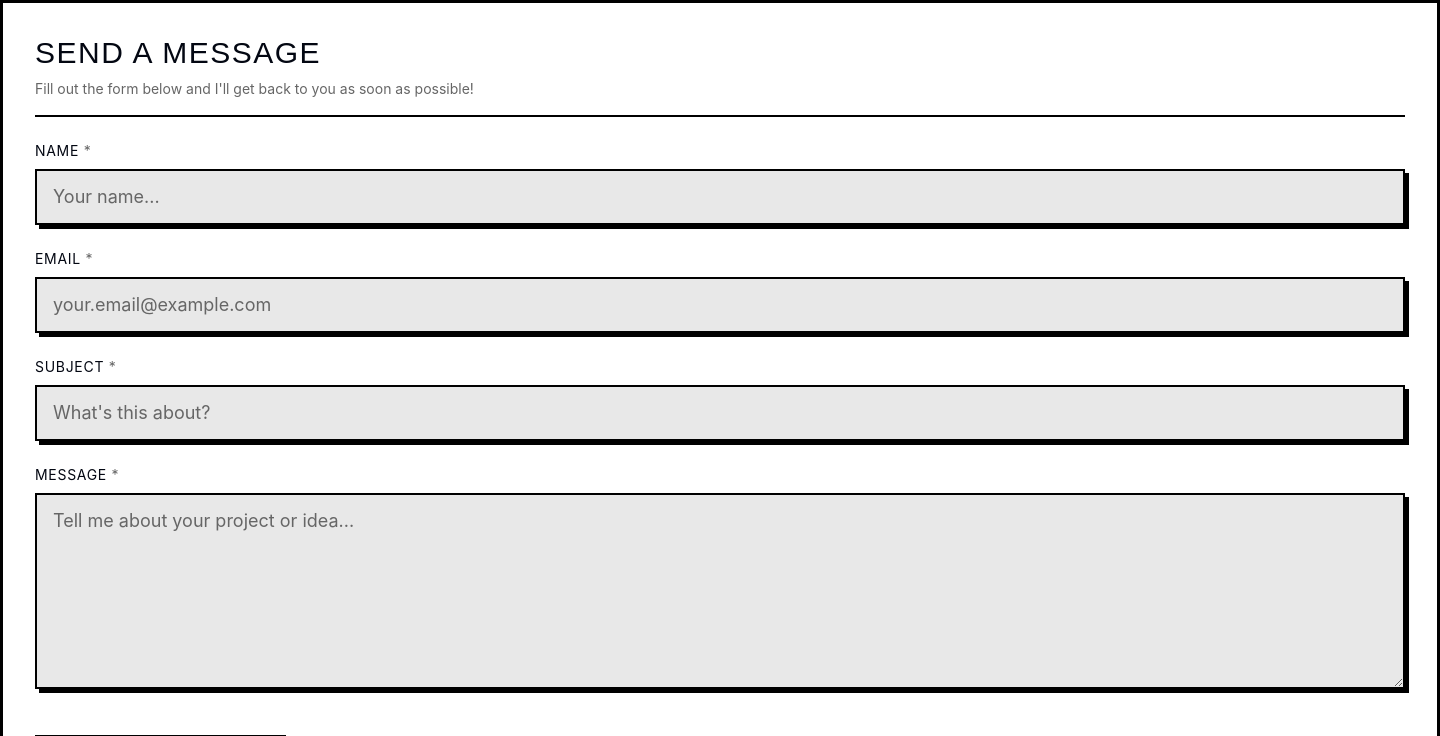
ContactForm › Validation › shows error when email is invalid
Type "invalid-email" into the field labelled "Email *" at (720, 305), box [35,277,1405,333]
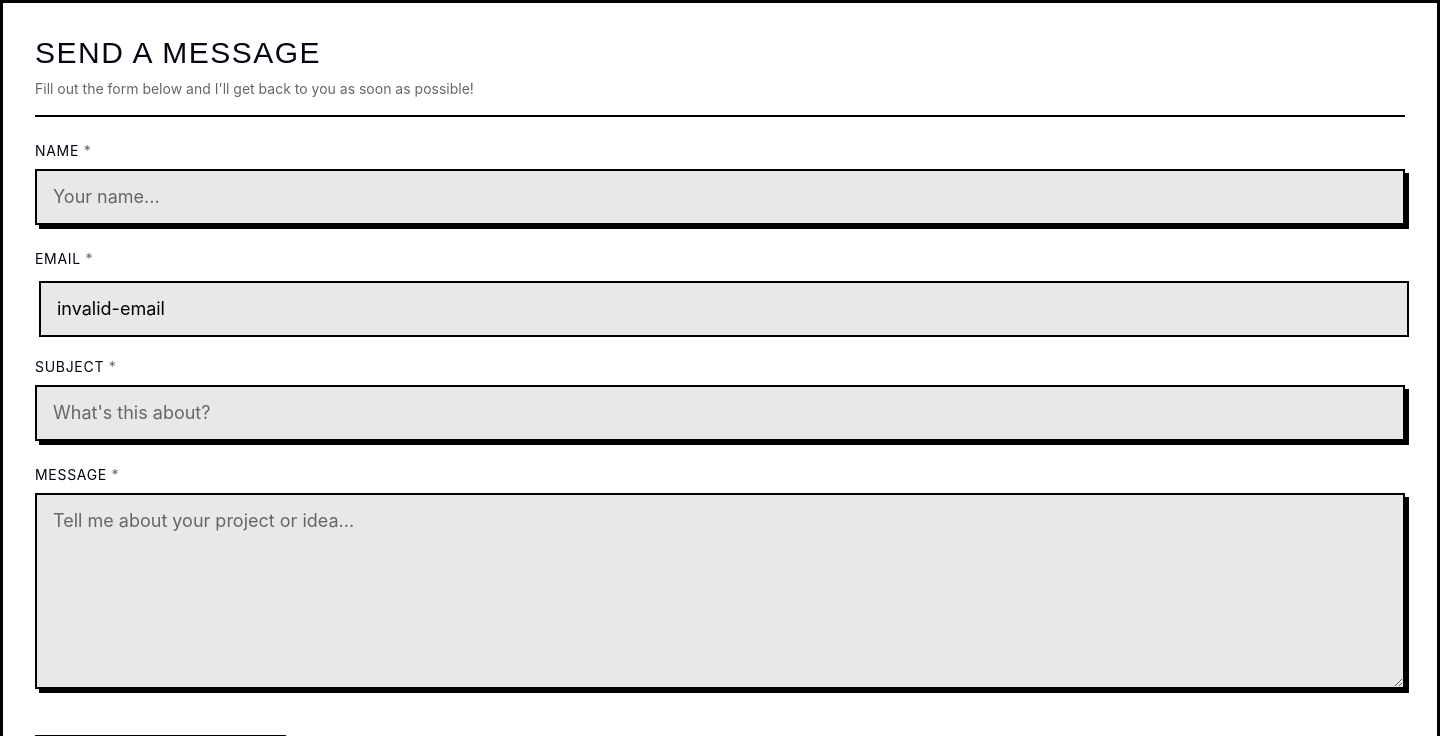
Press Tab
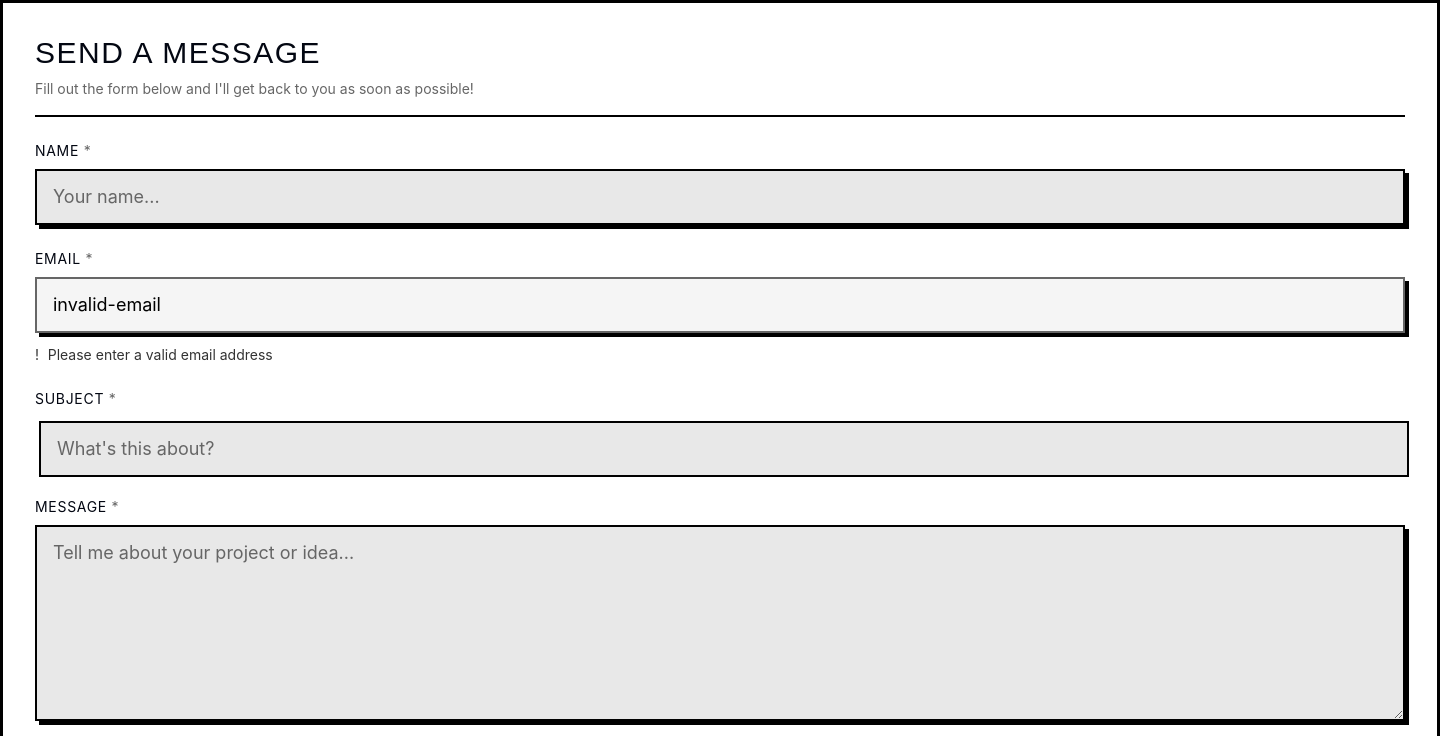
Result: the text "Please enter a valid email address" is shown at [48,345,273,365]
